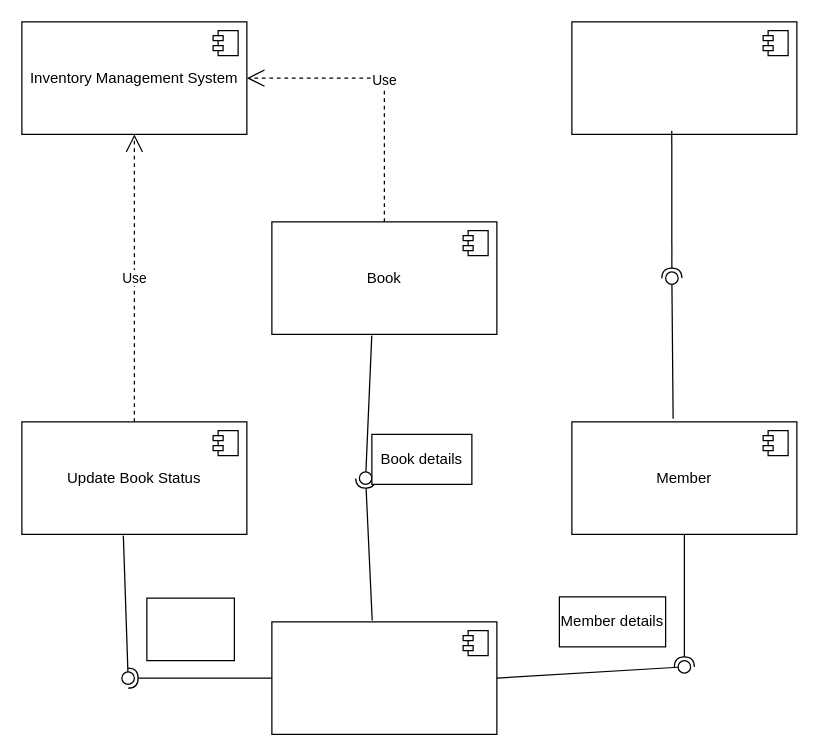
The diagram is 819 pixels wide and 756 high, and some of its shapes have lost their labels. Here are the shapes that lost their labels. From the top down, the centre of each, then its label:
At (684,77): "User Management System".
At (190,629): "Transaction details".
At (384,677): "Book Transaction".
